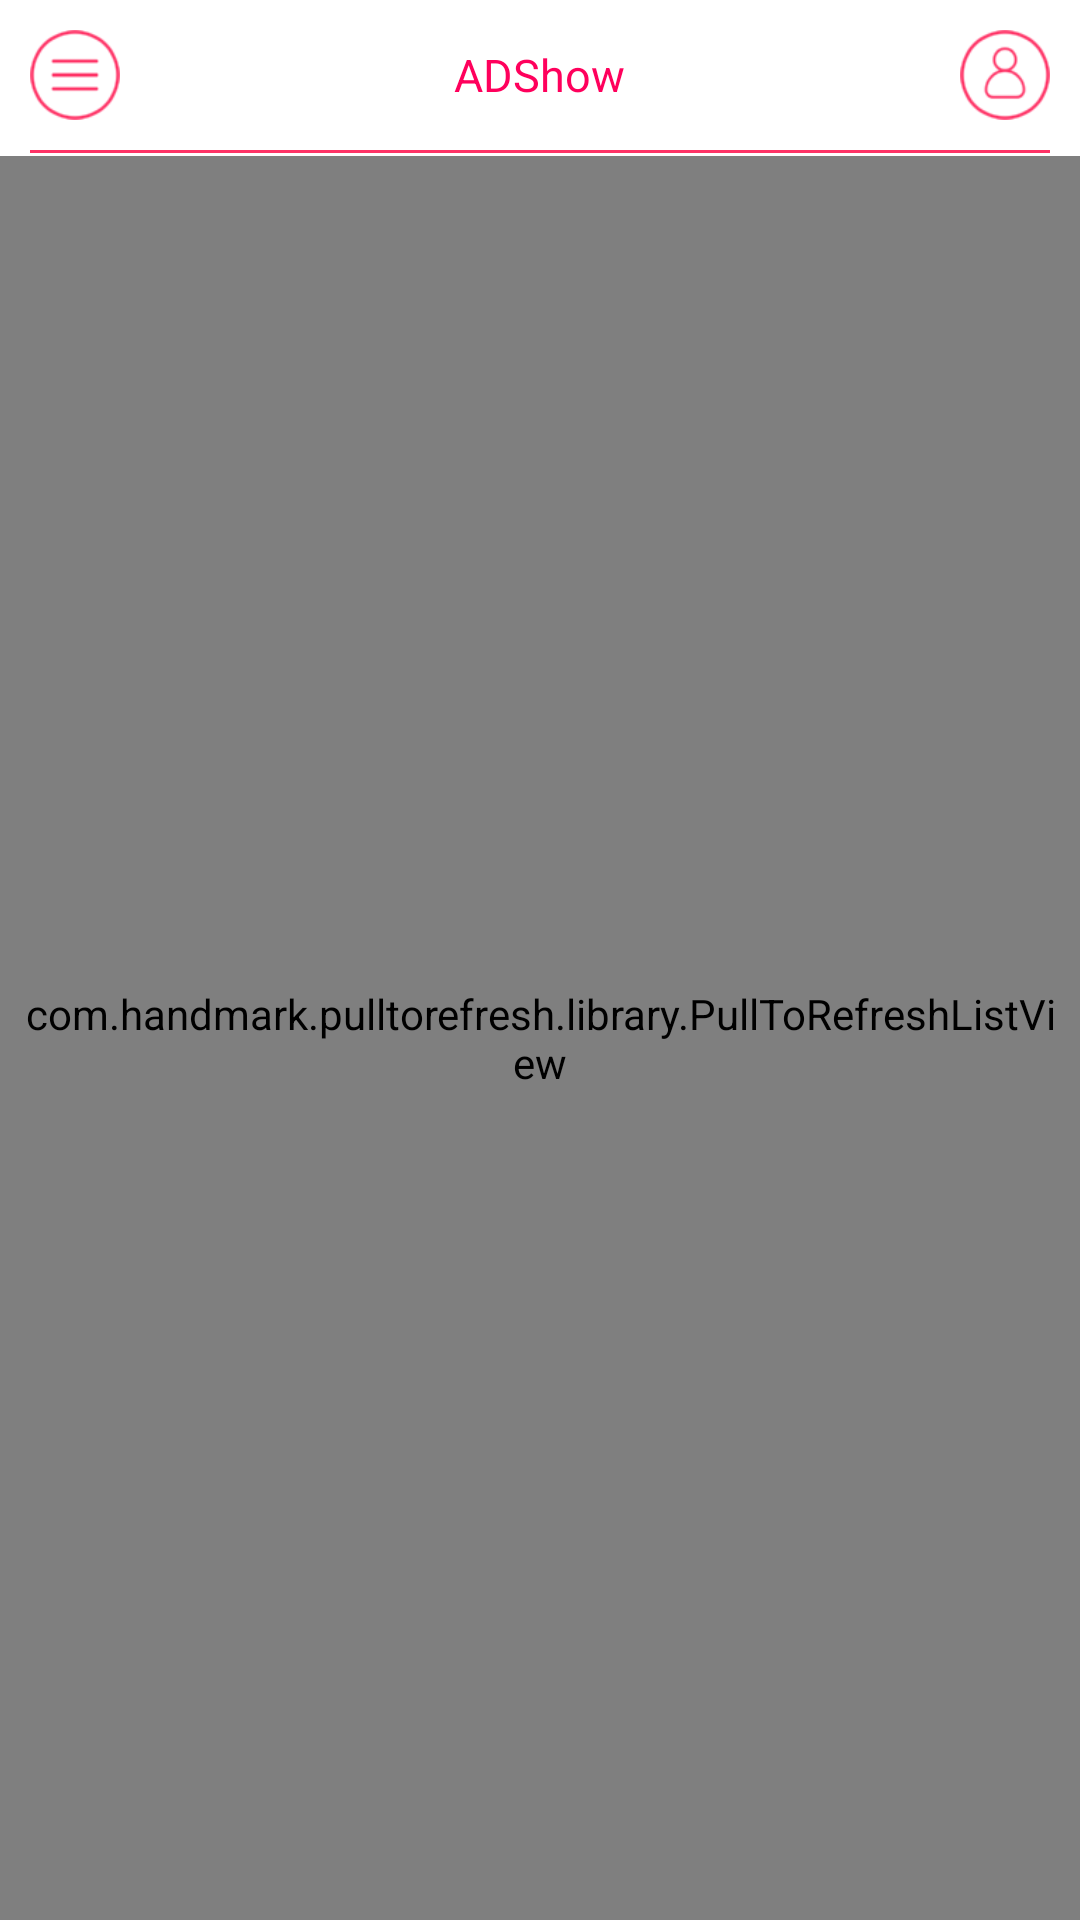

Locate icon controls on the screen. Image size 1080*1920, boxes as (left=x1, top=y1, right=x2, bottom=y2).
menu: (left=30, top=30, right=120, bottom=120)
person: (left=960, top=30, right=1050, bottom=120)
